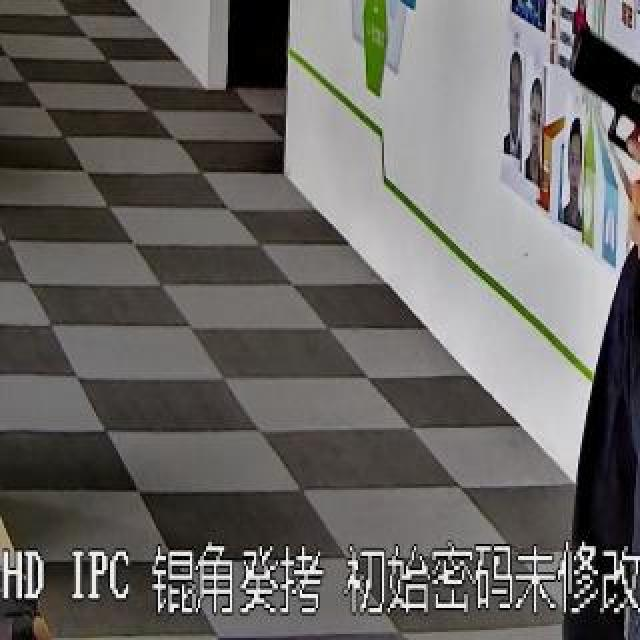Guns: (556, 0, 640, 214)
